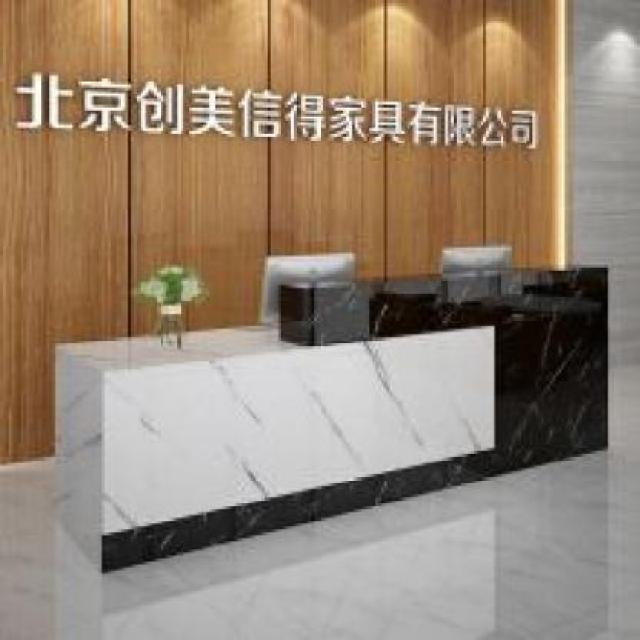frontdesk: (36, 252, 618, 583)
